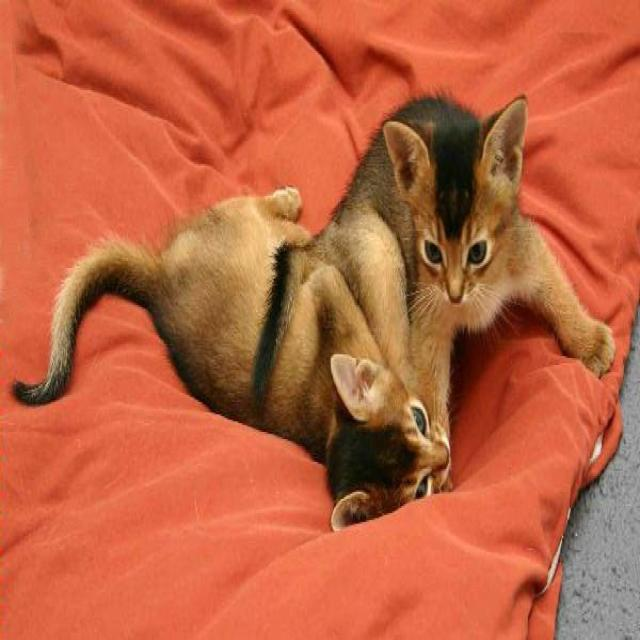Abyssinian: (381, 89, 531, 312), (326, 351, 454, 546)
